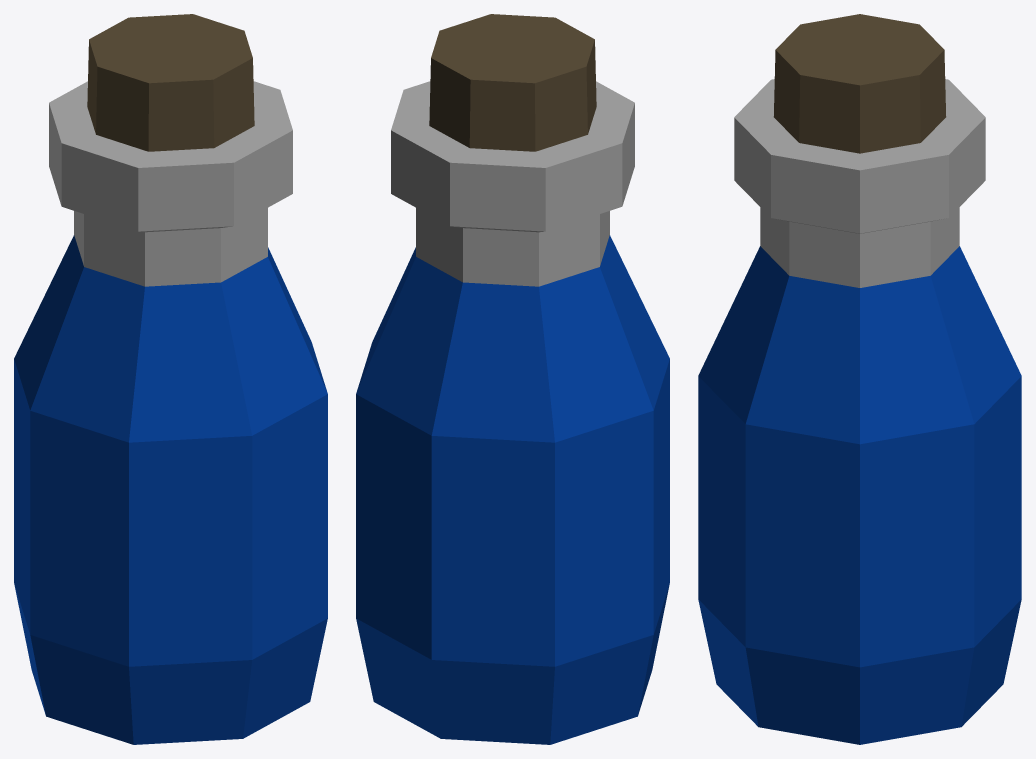
File: MP_Greater Potion.fbx
3 views of the same model, side by side, from view 1: azimuth 30°, elevation 25°; view 2: azimuth 150°, elevation 25°; view 3: azimuth 270°, elevation 25° (orthographic).
Visible parts, largest first — view 1: pasted__polySurface17; view 2: pasted__polySurface17; view 3: pasted__polySurface17.
Boxes of the visible parts, x1,y1,x2,y2 form: pasted__polySurface17: (14,14,327,744); pasted__polySurface17: (356,14,669,744); pasted__polySurface17: (698,14,1021,744).
Size of the model in its own units: 47.6 by 103 by 47.6.
